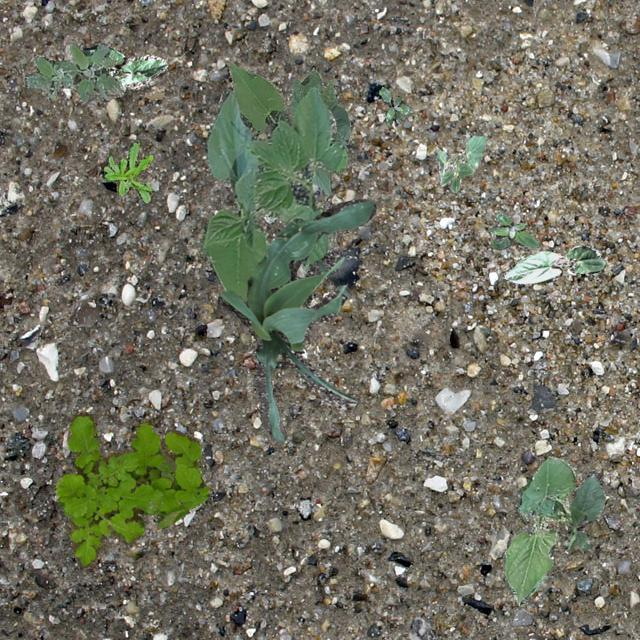crop: (216, 198, 374, 442), (202, 86, 346, 302), (228, 62, 350, 195), (502, 456, 574, 604), (80, 44, 168, 88), (504, 245, 604, 282), (564, 470, 604, 552), (434, 134, 486, 192)
weed: (54, 412, 208, 566), (22, 42, 122, 102), (101, 140, 152, 202), (491, 212, 538, 248), (378, 86, 412, 125)
